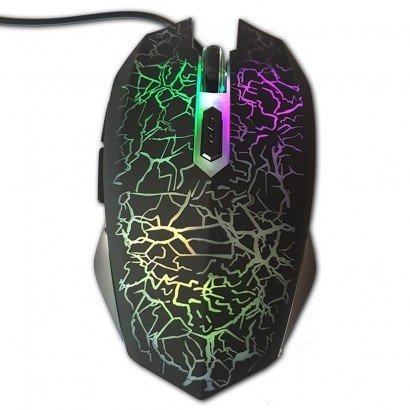mouse: (87, 6, 321, 405)
